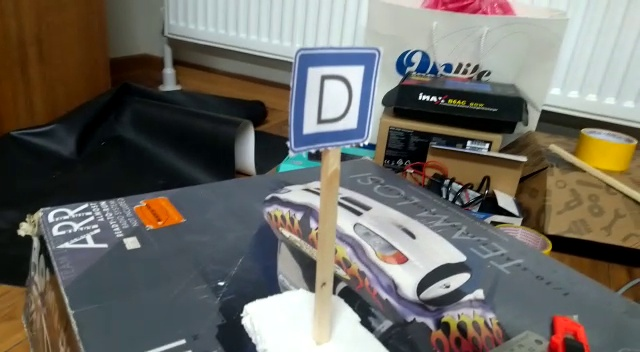durak: (291, 54, 368, 135)
